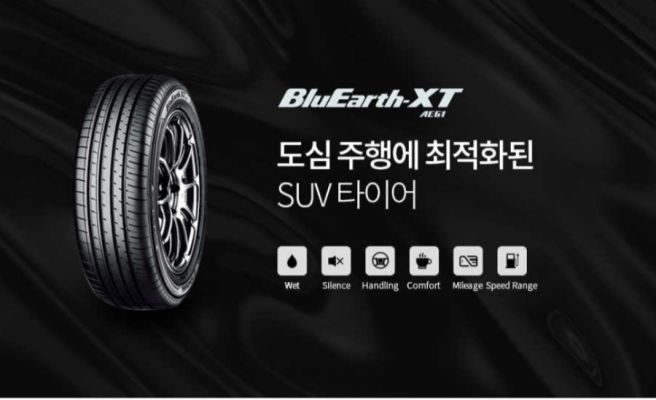new_condition: (69, 101, 151, 273)
